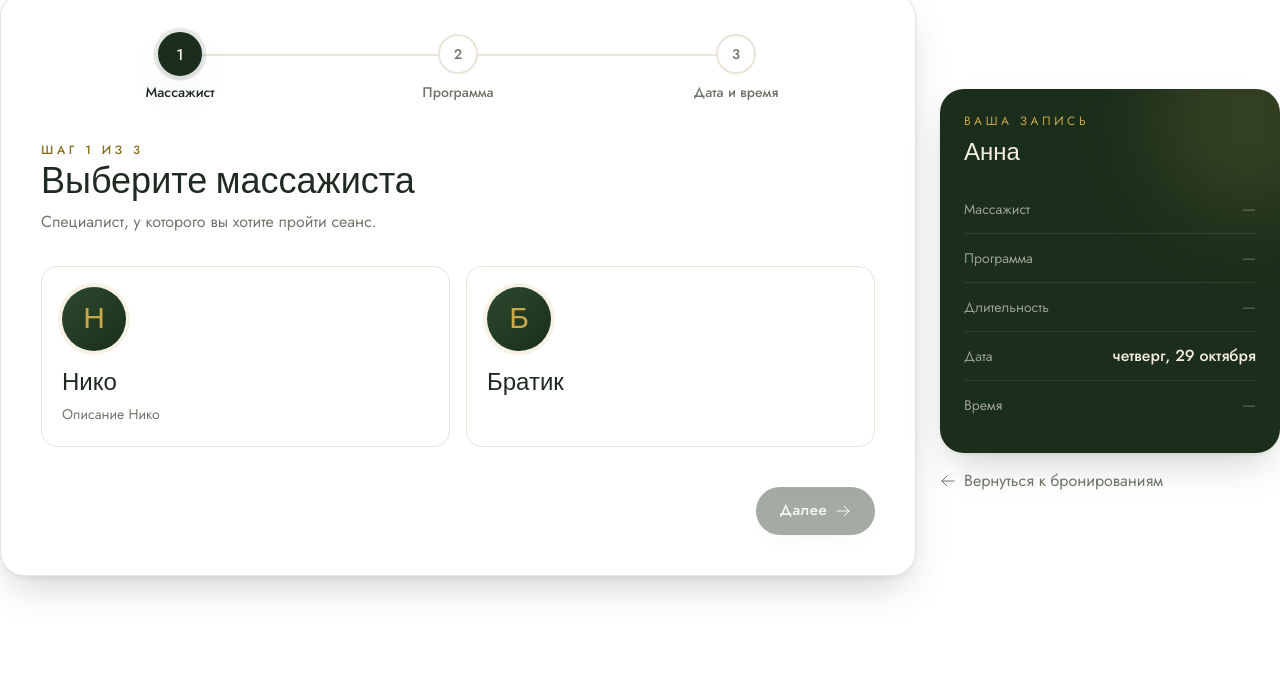
CreateOrEditBookingForm › walks through therapist → program → date and time
Expected: the button "Далее" is disabled, left=756, top=487, right=875, bottom=535
Click the button "Н Нико Описание Нико". click: (94, 319)
box: left=41, top=266, right=450, bottom=447
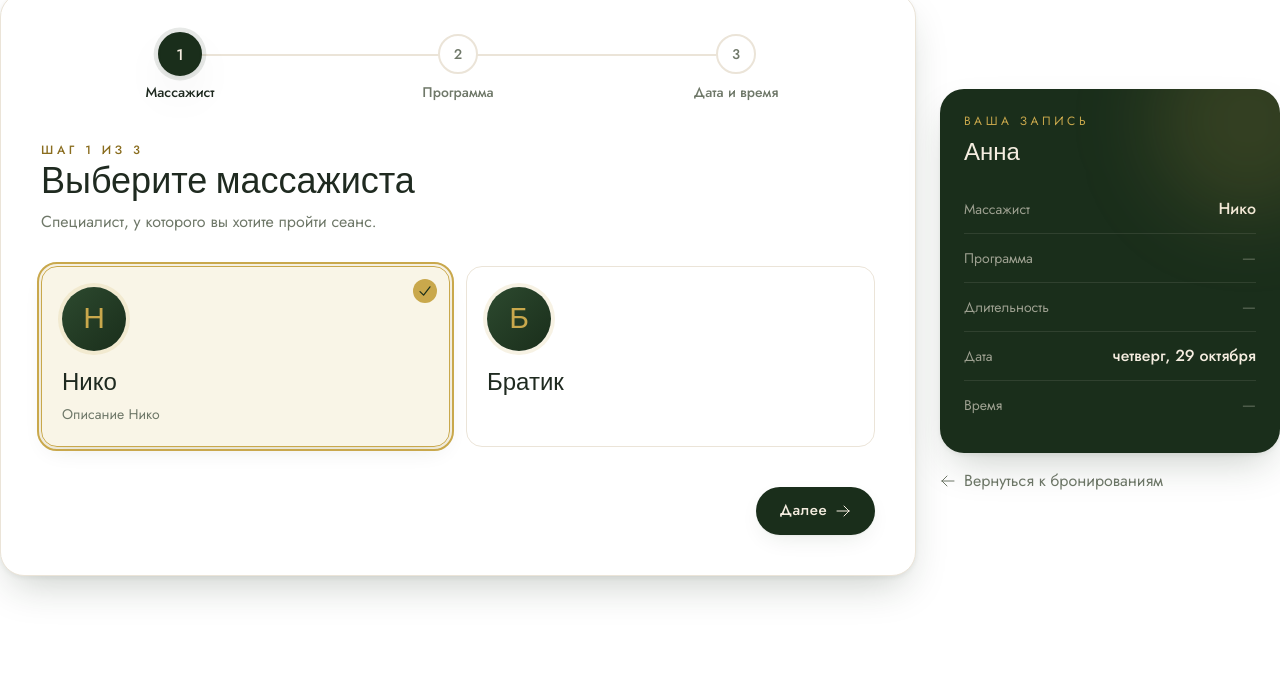
Click the button "Далее". click: (815, 511)
box: left=756, top=487, right=875, bottom=535
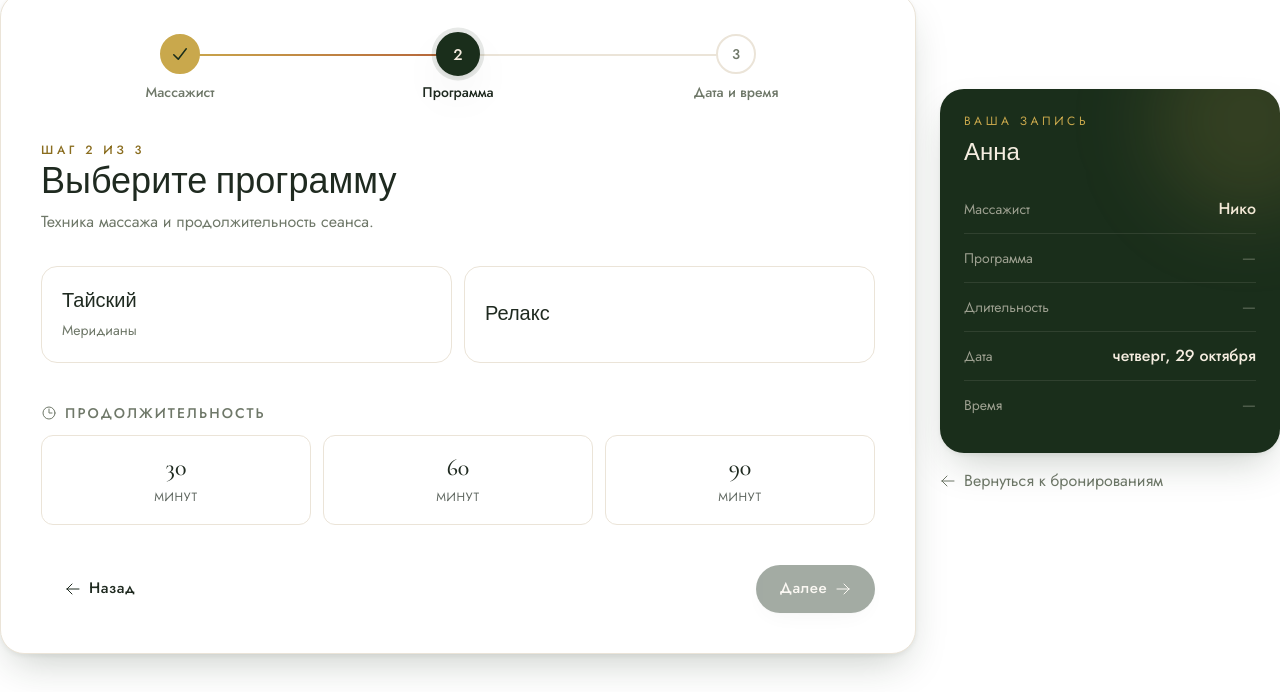
Result: the heading "Выберите программу" is shown at left=41, top=160, right=396, bottom=203
Click the button "Тайский Меридианы". click: (99, 301)
box: left=41, top=266, right=452, bottom=363
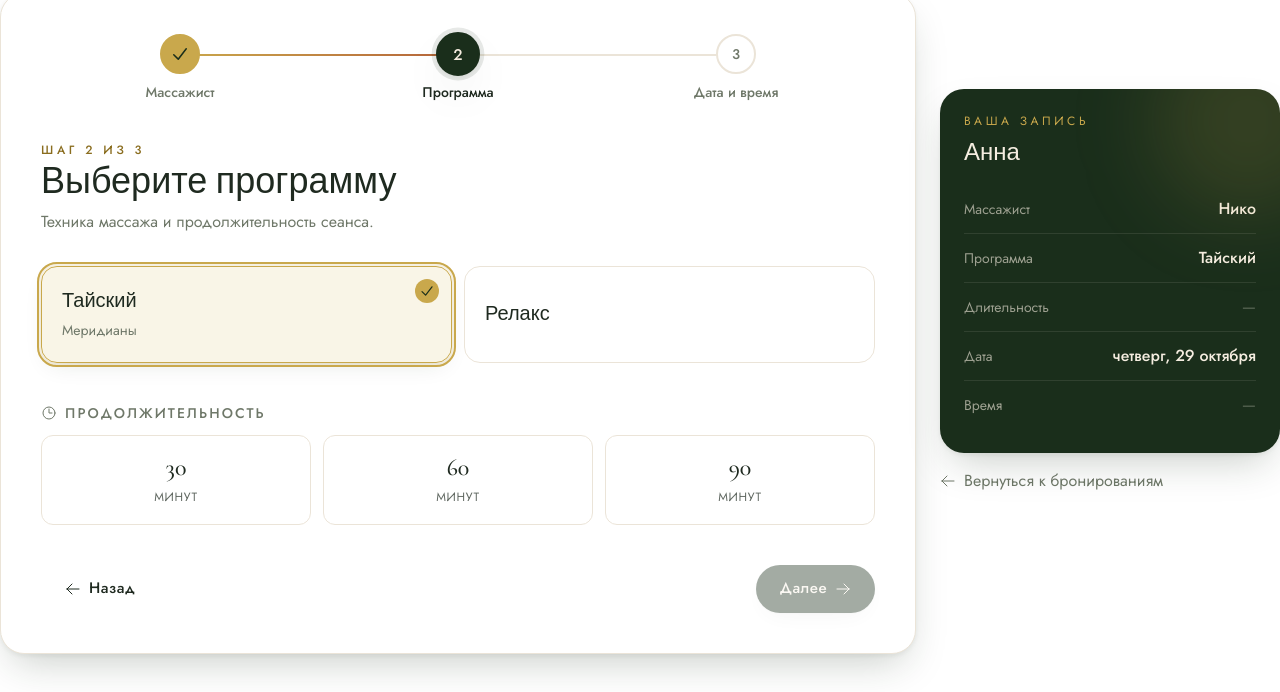
Result: the button "Далее" is disabled at left=756, top=565, right=875, bottom=613
Click the button "60 минут". click: (458, 480)
box: left=323, top=435, right=593, bottom=525
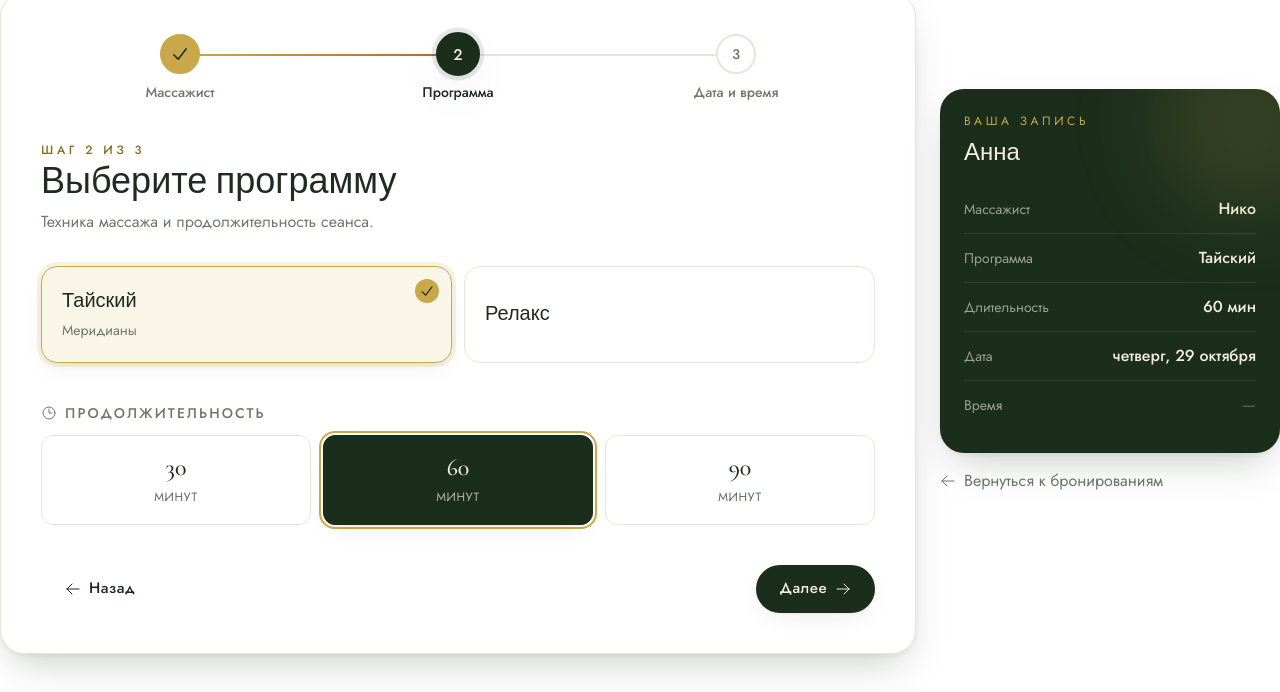
Click the button "Далее". click: (815, 589)
box: left=756, top=565, right=875, bottom=613
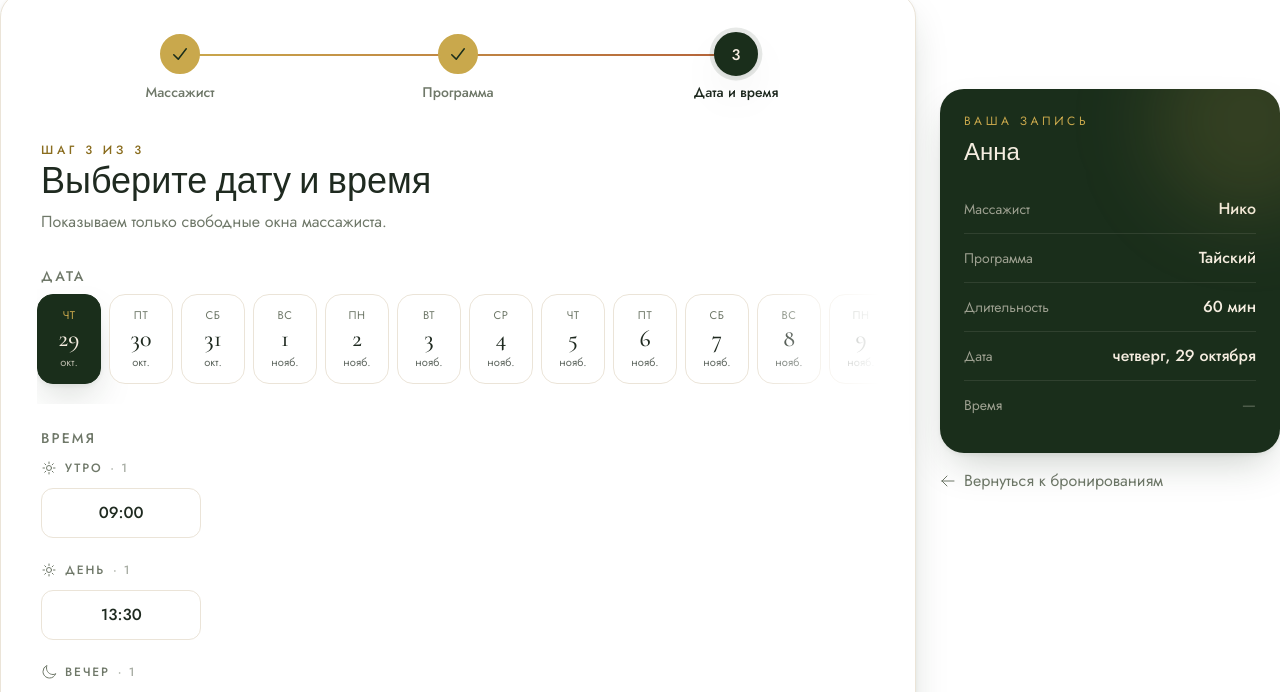
Result: the button "13:30" is shown
Result: the heading "Утро · 1" is shown at left=41, top=459, right=129, bottom=477
Result: the heading "Вечер · 1" is shown at left=41, top=663, right=136, bottom=681
Click the button "13:30". click: (121, 615)
box: left=41, top=590, right=201, bottom=640
(page scrolled)
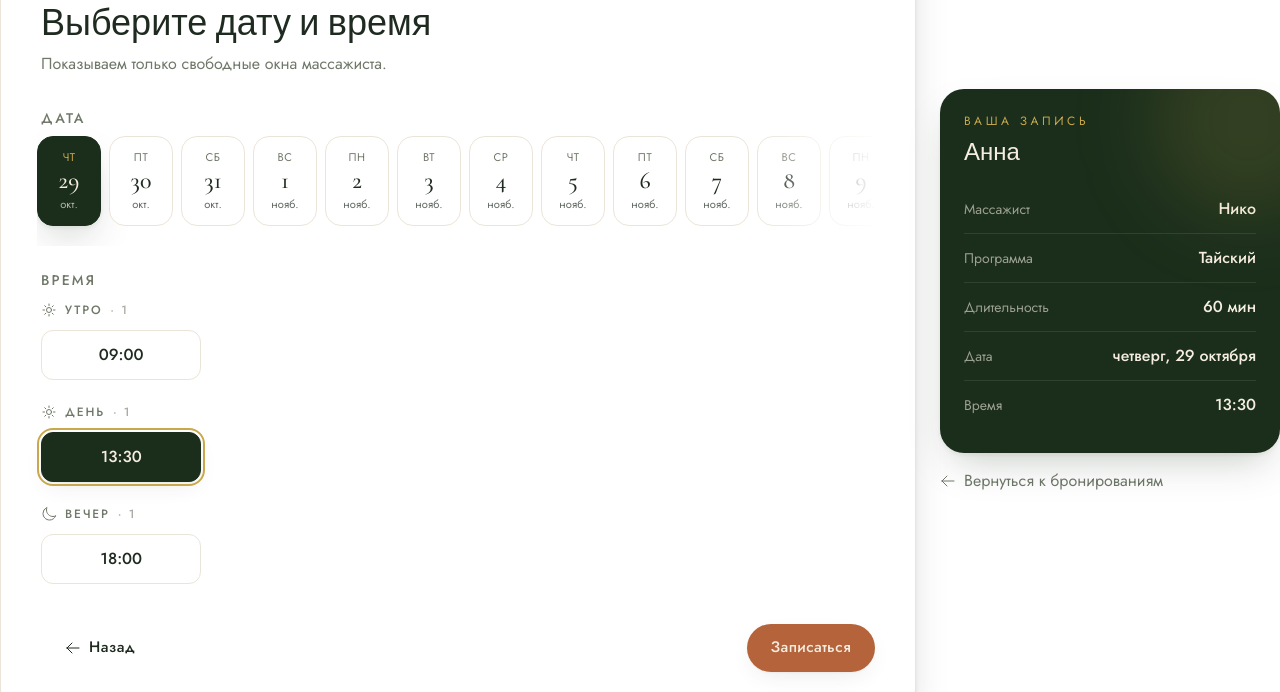
Result: the button "Записаться" is enabled at left=747, top=624, right=875, bottom=672
